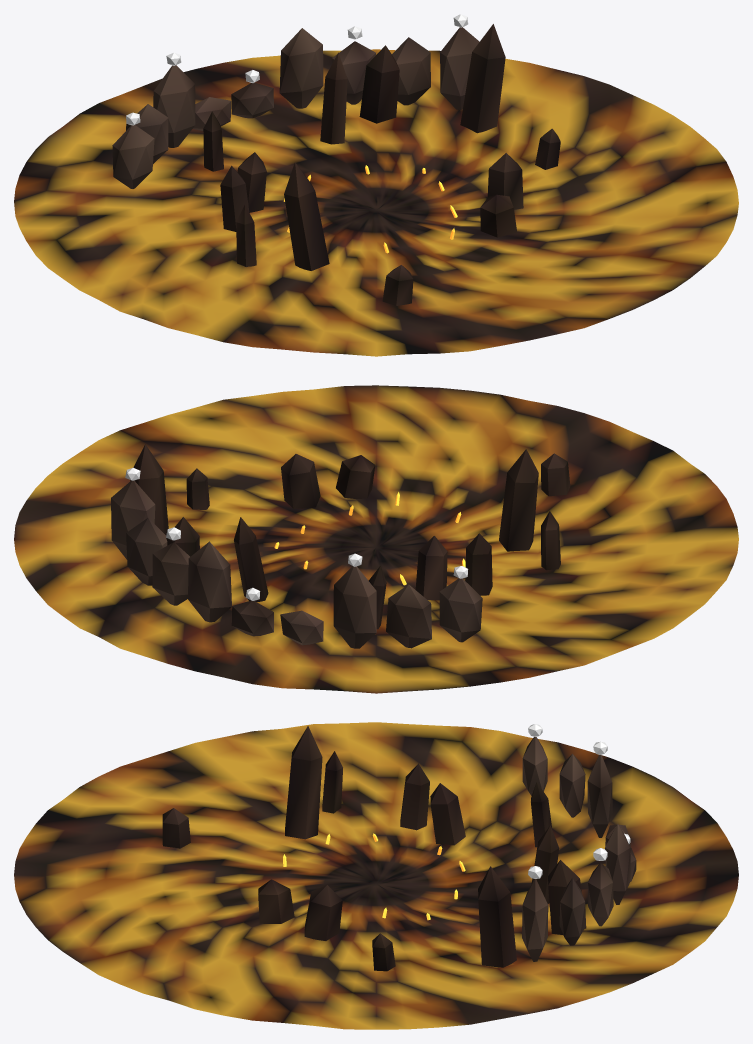
File: arena-volcano.55aafa1834.glb
The picture shows the model from 3 angles, top to bottom: view 1: azimuth 30°, elevation 25°; view 2: azimuth 150°, elevation 25°; view 3: azimuth 270°, elevation 25°; orthographic projection.
Visible parts, largest first — view 1: Arena; view 2: Arena; view 3: Arena.
Part boxes in pixels (x1,y1,x2,y2): Arena: [14, 14, 738, 356]; Arena: [14, 385, 738, 693]; Arena: [14, 722, 738, 1029].
Size of the model in its own units: 44 by 7.05 by 44.
